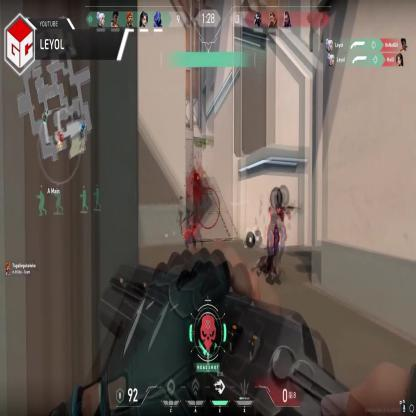enemy: (266, 190, 291, 278)
enemy_head: (272, 190, 285, 211)
